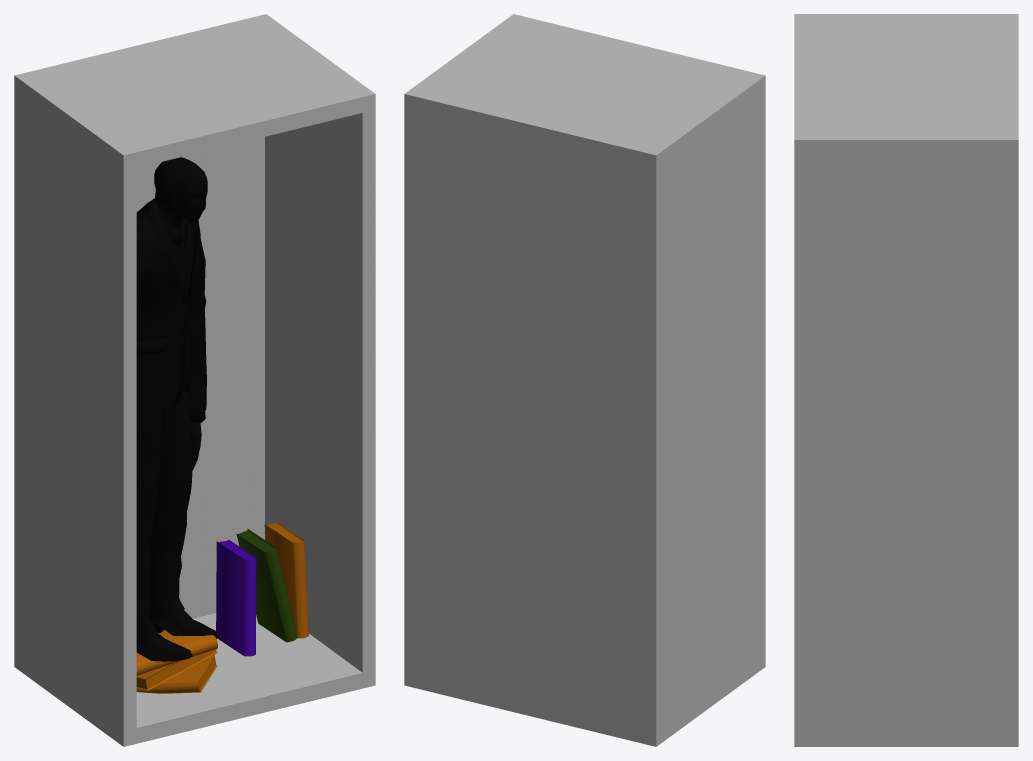
Rendered from SLENDER FBX.fbx.
3 renders of one model, left to right at view 1: azimuth 30°, elevation 25°; view 2: azimuth 150°, elevation 25°; view 3: azimuth 270°, elevation 25°, orthographic. The views are drawn at different scales.
Parts seen in each view (by area): view 1: emptyLocker:pCube1, Mesh_0666, Book015, Book011, Book016, Book014, Book012, Book013; view 2: emptyLocker:pCube1; view 3: emptyLocker:pCube1.
Part boxes in pixels (<box>): emptyLocker:pCube1: <box>14,14,375,746</box>; Mesh_0666: <box>136,157,218,661</box>; Book015: <box>216,539,256,656</box>; Book011: <box>236,529,297,642</box>; Book016: <box>264,522,308,638</box>; Book014: <box>136,654,217,693</box>; Book012: <box>136,629,217,675</box>; Book013: <box>136,649,217,690</box>; emptyLocker:pCube1: <box>404,14,765,746</box>; emptyLocker:pCube1: <box>794,14,1018,746</box>.
Size of the model in its own units: 1.93 by 4.34 by 1.45.
